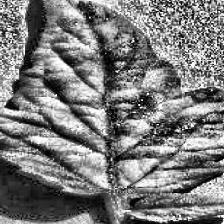leaf mold: (0, 0, 224, 194)
